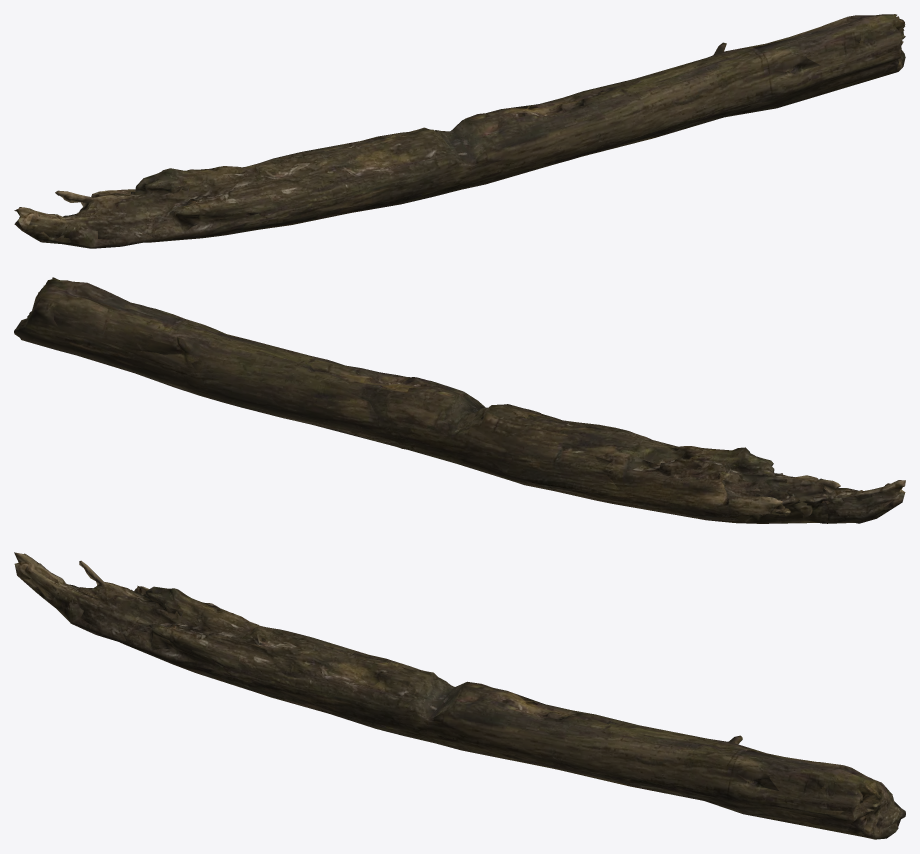
Rendered from dead_tree_trunk.glb.
3 renders of one model, top to bottom at view 1: azimuth 30°, elevation 25°; view 2: azimuth 150°, elevation 25°; view 3: azimuth 330°, elevation 25°, orthographic.
Visible parts, largest first — view 1: dead_tree_trunk, dead_tree_trunk_lo; view 2: dead_tree_trunk, dead_tree_trunk_lo; view 3: dead_tree_trunk, dead_tree_trunk_lo.
Boxes of the visible parts, x1,y1,x2,y2 form: dead_tree_trunk: [14, 14, 905, 248]; dead_tree_trunk_lo: [17, 15, 904, 248]; dead_tree_trunk: [14, 277, 905, 523]; dead_tree_trunk_lo: [14, 280, 902, 523]; dead_tree_trunk: [14, 552, 905, 839]; dead_tree_trunk_lo: [14, 552, 905, 838].
Size of the model in its own units: 3.05 by 0.2875 by 0.2774.
Materials: 1 (1 with a texture image).
